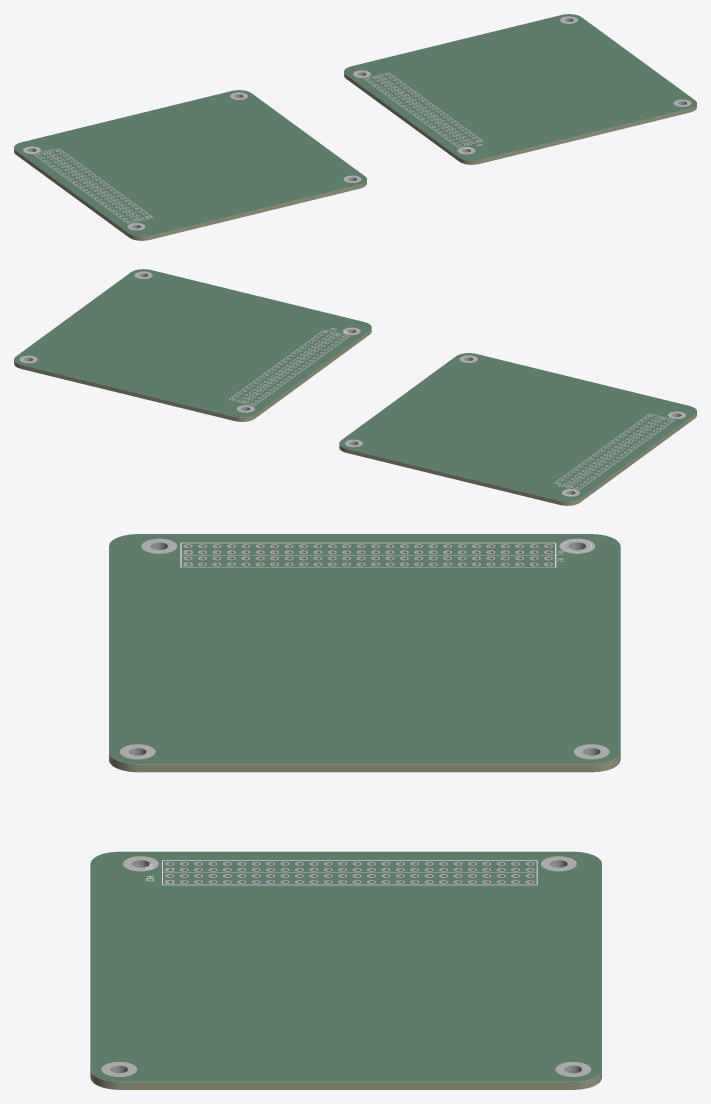
File: board.glb
3 views of the same model, one above another, from view 1: azimuth 30°, elevation 25°; view 2: azimuth 150°, elevation 25°; view 3: azimuth 270°, elevation 25° (orthographic). The views are drawn at different scales.
Visible parts, largest first — view 1: =>[0:1:1:4], =>[0:1:1:7], =>[0:1:1:6], =>[0:1:1:2], =>[0:1:1:3]; view 2: =>[0:1:1:4], =>[0:1:1:6], =>[0:1:1:7], =>[0:1:1:2], =>[0:1:1:3]; view 3: =>[0:1:1:4], =>[0:1:1:6], =>[0:1:1:7], =>[0:1:1:2], =>[0:1:1:3], =>[0:1:1:5].
Boxes of the visible parts, x1,y1,x2,y2 form: =>[0:1:1:4]: [14, 14, 696, 236]; =>[0:1:1:7]: [14, 91, 366, 240]; =>[0:1:1:6]: [344, 15, 696, 164]; =>[0:1:1:2]: [23, 16, 691, 230]; =>[0:1:1:3]: [24, 72, 482, 223]; =>[0:1:1:4]: [14, 269, 696, 501]; =>[0:1:1:6]: [14, 270, 371, 421]; =>[0:1:1:7]: [339, 354, 696, 505]; =>[0:1:1:2]: [19, 271, 685, 496]; =>[0:1:1:3]: [229, 328, 674, 495]; =>[0:1:1:4]: [90, 534, 620, 1081]; =>[0:1:1:6]: [90, 852, 601, 1089]; =>[0:1:1:7]: [109, 535, 620, 771]; =>[0:1:1:2]: [101, 538, 609, 1076]; =>[0:1:1:3]: [146, 540, 591, 885]; =>[0:1:1:5]: [90, 760, 620, 1089].
Size of the model in its own units: 0.2283 by 0.00163 by 0.0934.
